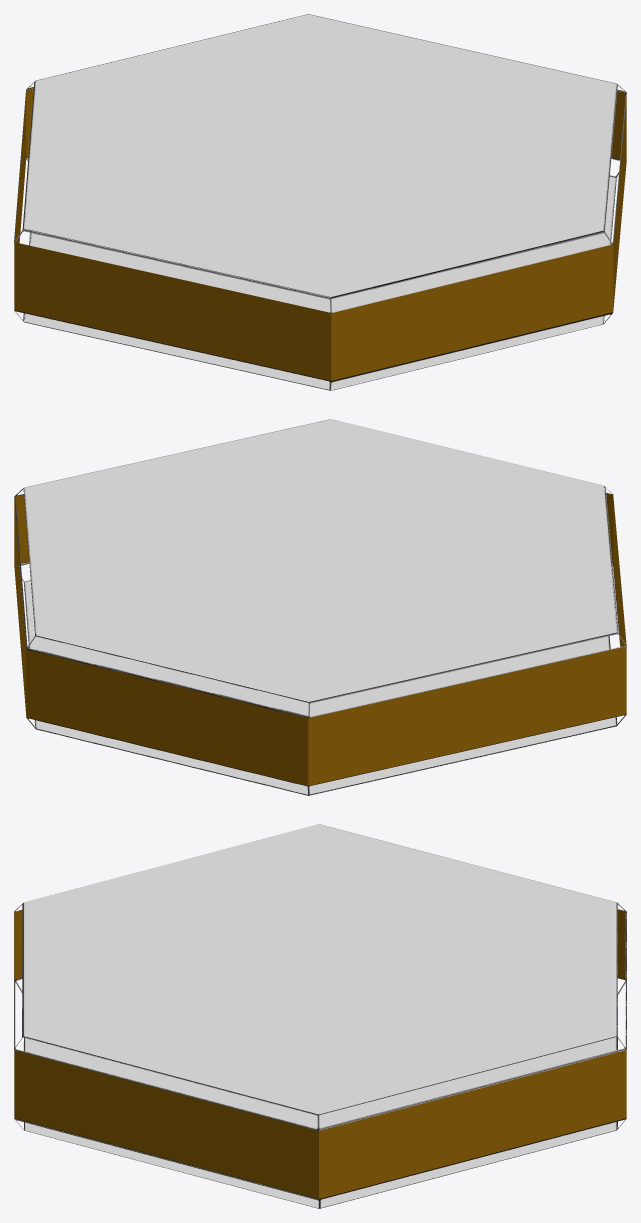
Rendered from PlataformaHexagonal.fbx.
The picture shows the model from 3 angles, top to bottom: view 1: azimuth 30°, elevation 25°; view 2: azimuth 150°, elevation 25°; view 3: azimuth 270°, elevation 25°; orthographic projection.
Visible parts, largest first — view 1: Plane; view 2: Plane; view 3: Plane.
Boxes of the visible parts, <box> form: Plane: <box>14,14,626,390</box>; Plane: <box>14,419,626,795</box>; Plane: <box>14,824,626,1208</box>.
Size of the model in its own units: 241 by 35.26 by 208.
Materials: 4 (4 with a texture image).
